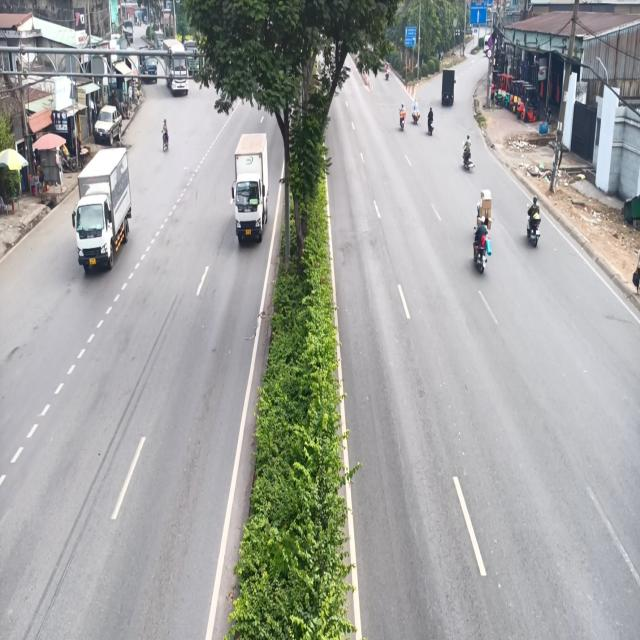motor: (472, 211, 488, 283), (526, 190, 541, 246), (462, 131, 474, 175), (162, 116, 171, 158)
truck: (72, 144, 138, 277), (230, 125, 270, 253)
